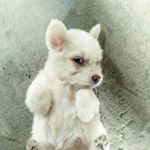puppy: (23, 17, 113, 150)
